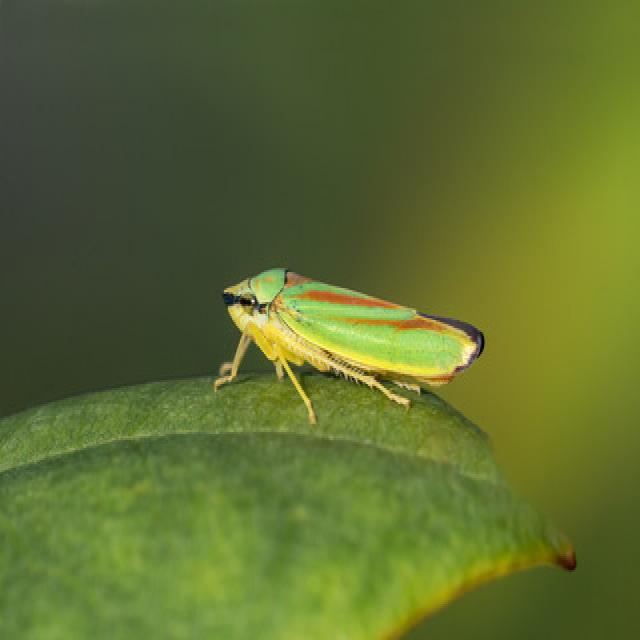Yechan: (211, 257, 487, 429)
